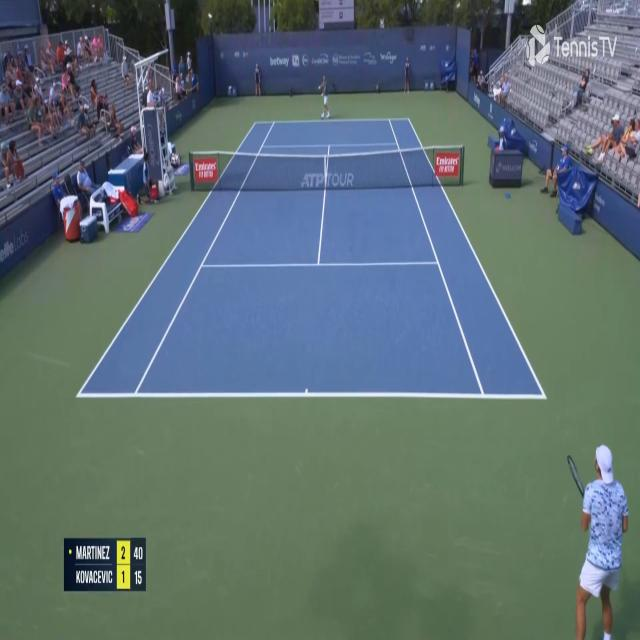tennis-player: (564, 440, 633, 639), (317, 73, 335, 121)
